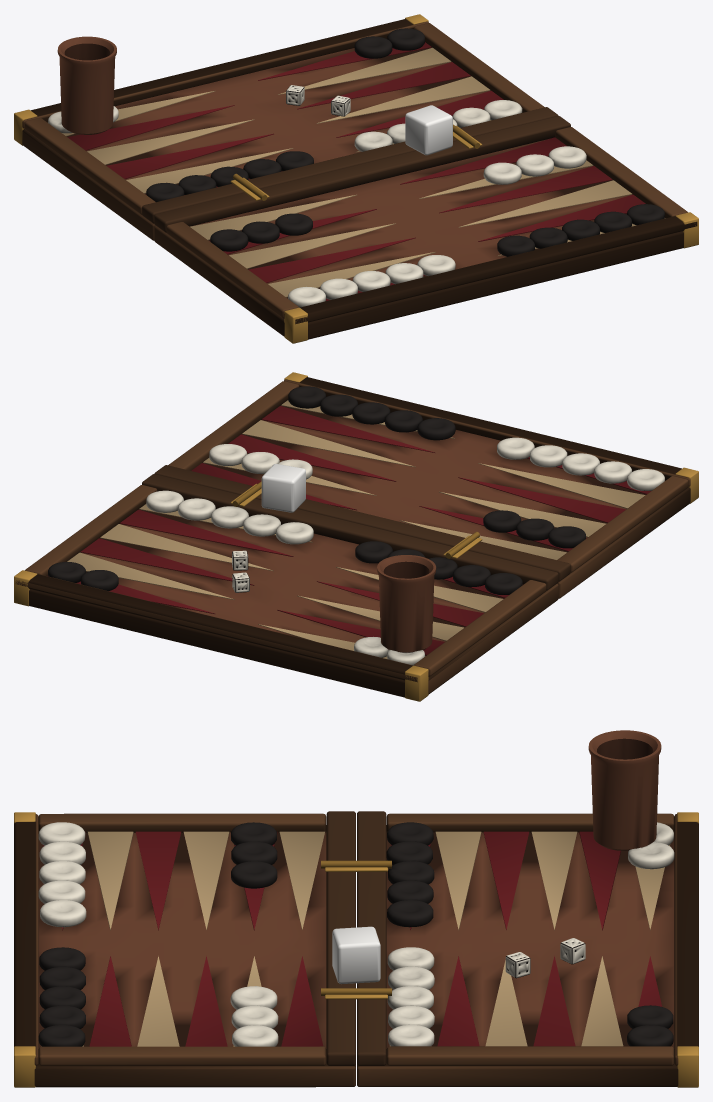
The model's file is set-backgammon.glb.
3 views of the same model, one above another, from view 1: azimuth 30°, elevation 25°; view 2: azimuth 150°, elevation 25°; view 3: azimuth 270°, elevation 25° (orthographic). The views are drawn at different scales.
Visible parts, largest first — view 1: Frame, Field, Points, Checkers_Ebony, Checkers_Bone, DiceCup, Hinges, DoublingCube, Dice; view 2: Frame, Field, Points, Checkers_Bone, Checkers_Ebony, DiceCup, Hinges, DoublingCube, Dice; view 3: Field, Frame, Points, Checkers_Ebony, Checkers_Bone, DiceCup, Hinges, DoublingCube, Dice.
Boxes of the visible parts, left/top/right/bottom form: Frame: left=22, top=19, right=697, bottom=339; Field: left=66, top=47, right=631, bottom=298; Points: left=62, top=42, right=665, bottom=300; Checkers_Ebony: left=146, top=28, right=664, bottom=256; Checkers_Bone: left=48, top=100, right=586, bottom=307; DiceCup: left=57, top=36, right=116, bottom=134; Hinges: left=14, top=14, right=698, bottom=343; DoublingCube: left=405, top=105, right=452, bottom=155; Dice: left=286, top=85, right=350, bottom=116; Frame: left=15, top=377, right=690, bottom=697; Field: left=81, top=405, right=646, bottom=655; Points: left=47, top=400, right=650, bottom=658; Checkers_Bone: left=146, top=437, right=664, bottom=665; Checkers_Ebony: left=48, top=386, right=585, bottom=594; DiceCup: left=377, top=555, right=436, bottom=652; Hinges: left=14, top=372, right=698, bottom=701; DoublingCube: left=261, top=464, right=305, bottom=512; Dice: left=232, top=550, right=249, bottom=592; Field: left=38, top=832, right=674, bottom=1048; Frame: left=14, top=811, right=698, bottom=1087; Points: left=43, top=831, right=670, bottom=1046; Checkers_Ebony: left=38, top=822, right=673, bottom=1046; Checkers_Bone: left=38, top=822, right=674, bottom=1046; DiceCup: left=588, top=730, right=661, bottom=850; Hinges: left=14, top=812, right=698, bottom=1087; DoublingCube: left=332, top=926, right=380, bottom=984; Dice: left=505, top=938, right=585, bottom=978.
Size of the model in its own units: 0.42 by 0.1012 by 0.5.
Materials: 5 (2 with a texture image).
